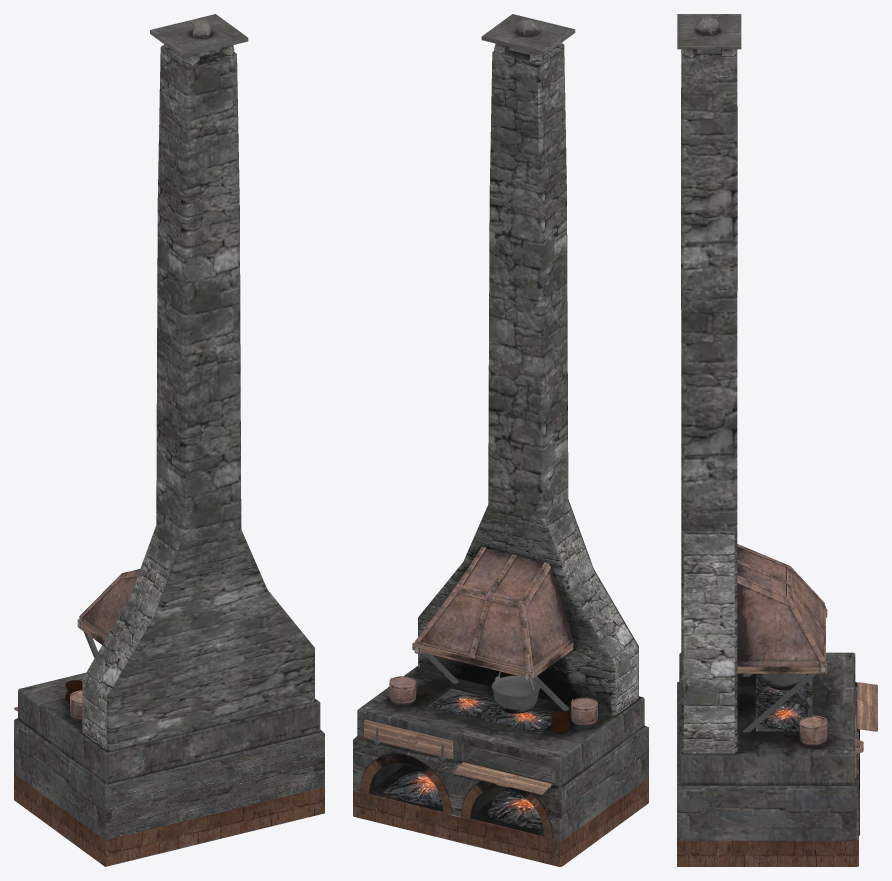
The model's file is pian_old_stove.glb.
3 renders of one model, left to right at view 1: azimuth 30°, elevation 25°; view 2: azimuth 150°, elevation 25°; view 3: azimuth 270°, elevation 25°, orthographic. The views are drawn at different scales.
Parts seen in each view (by area): view 1: Stove_StoveMAT_0; view 2: Stove_StoveMAT_0; view 3: Stove_StoveMAT_0.
Part boxes in pixels (left/top/right/bottom): Stove_StoveMAT_0: left=14, top=14, right=324, bottom=866; Stove_StoveMAT_0: left=353, top=14, right=648, bottom=866; Stove_StoveMAT_0: left=677, top=14, right=877, bottom=866.
Bounding box in the file's own units: 0.2562 × 0.9 × 0.2057.
1 material, 1 textured.
